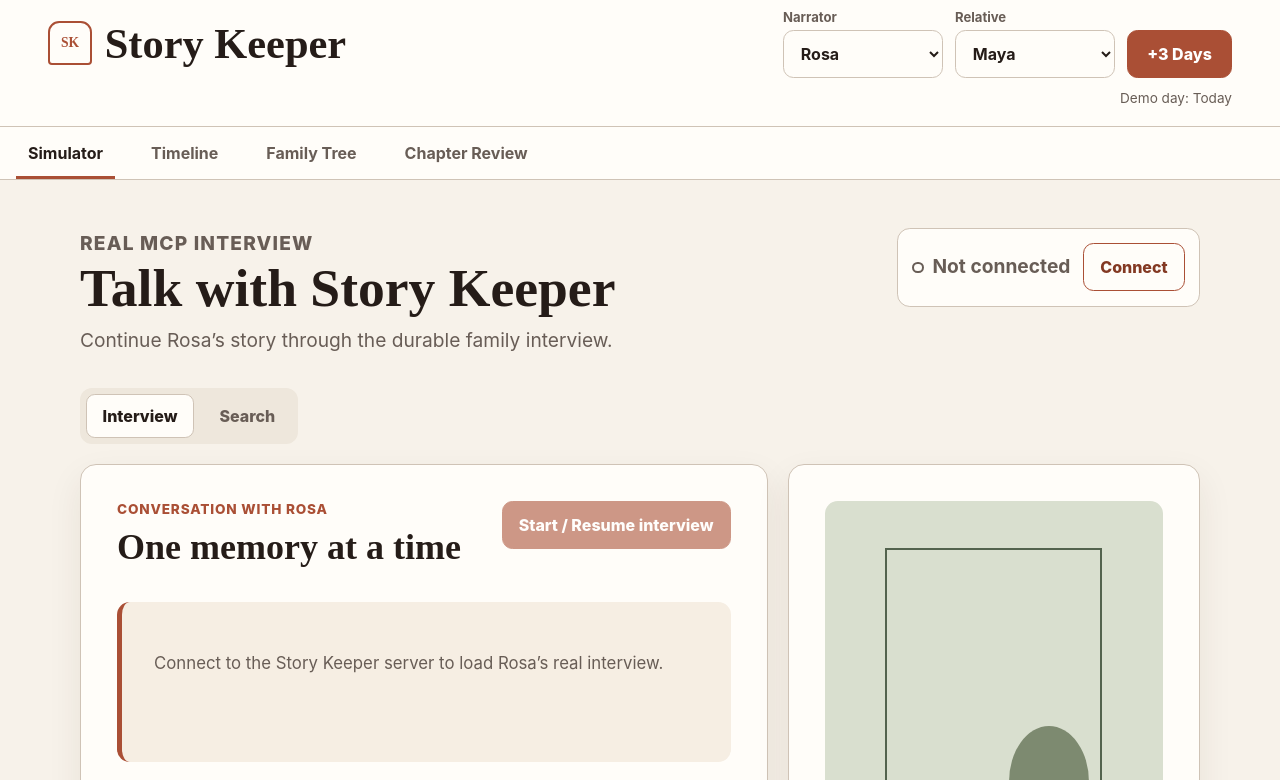
Test: SimulatorApp › refreshes canonical state after a stale conflicting memory transition
The image size is (1280, 780).
Click the button "Connect".
click(1134, 267)  # box [1083,243,1185,291]
(page scrolled)
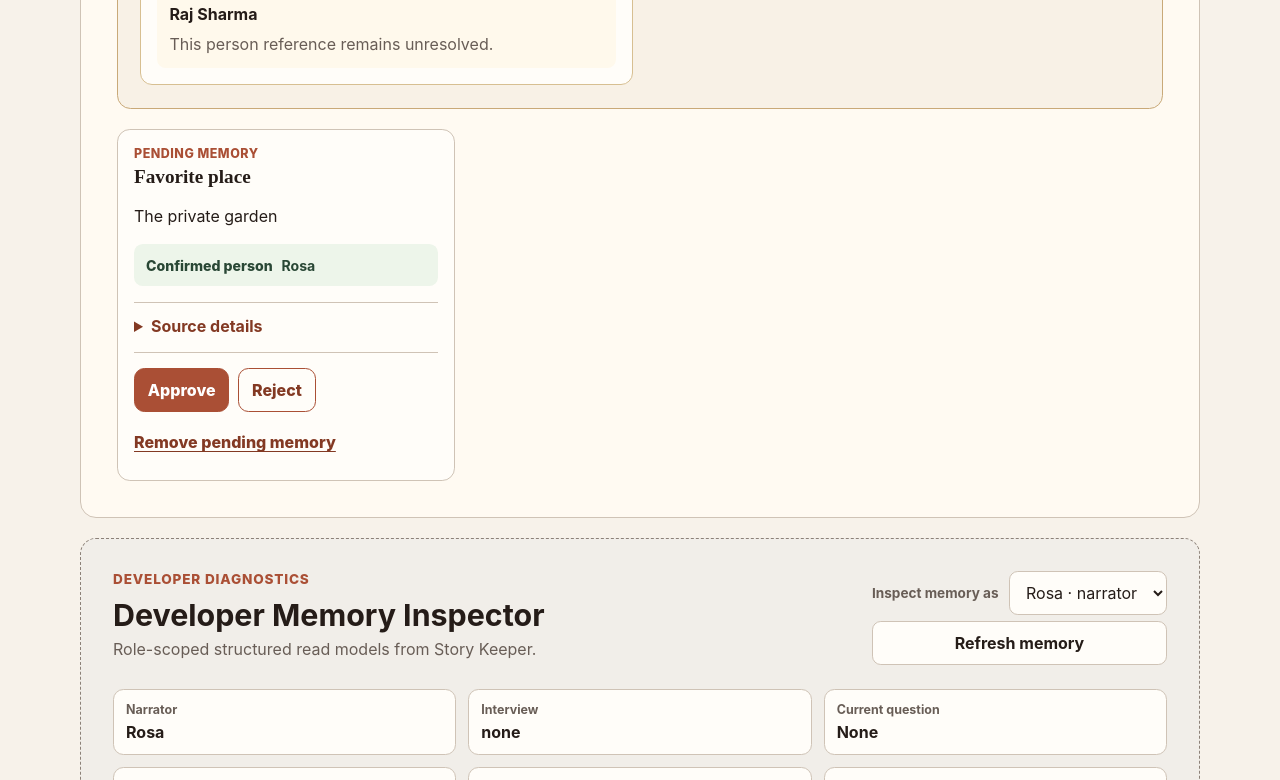
Click the button with aria-label "Reject Favorite place".
click(277, 390)  # box [238,368,316,412]
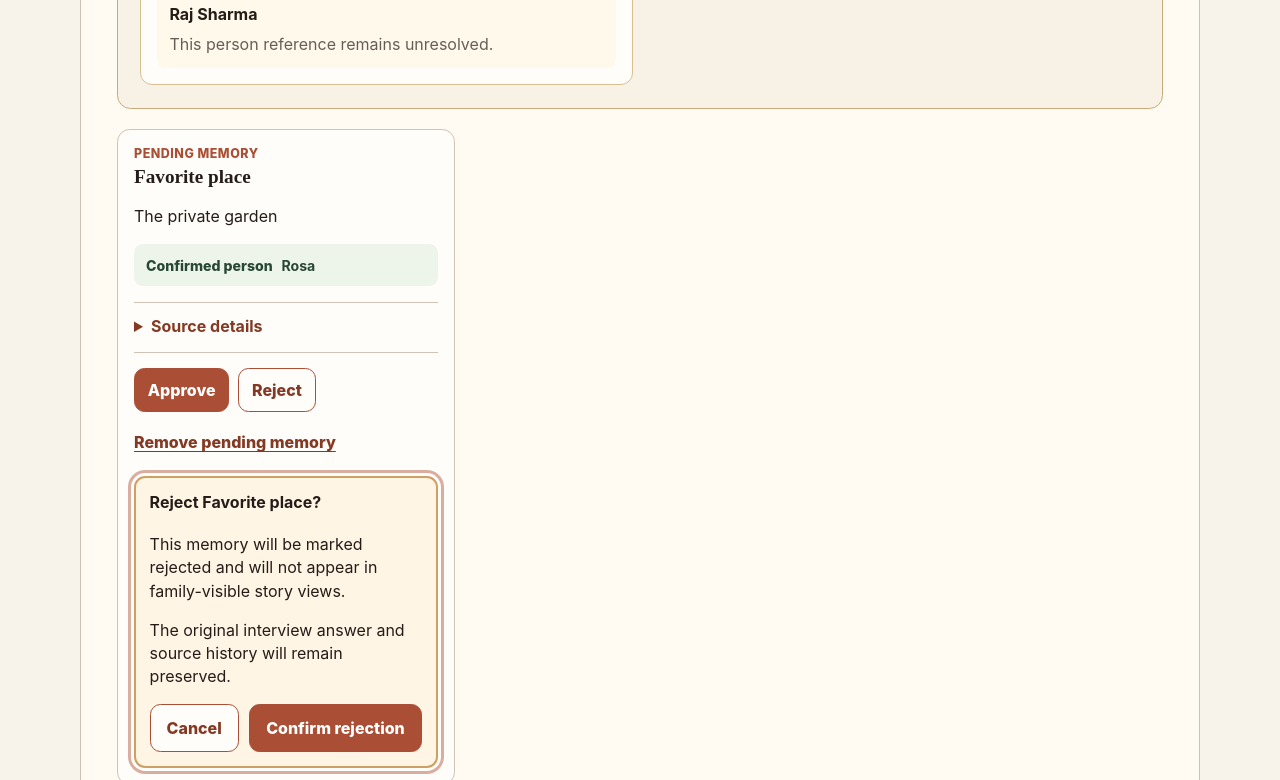
Click the button with aria-label "Confirm rejection for Favorite place".
click(335, 728)  # box [249,704,422,752]
(page scrolled)
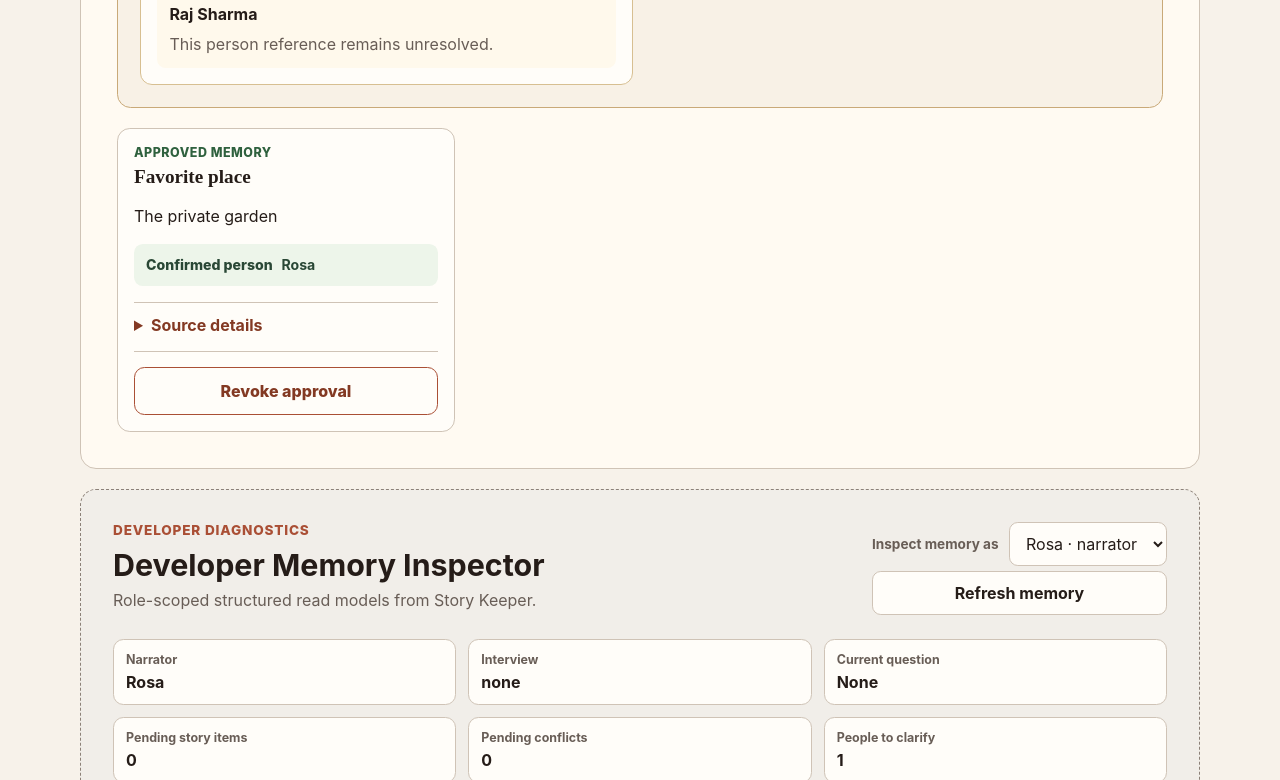
Check: the text "Approved memory" is shown, box [134,145,272,160]
Check: the button with aria-label "Revoke approval for Favorite place" is enabled, box [134,367,438,415]
